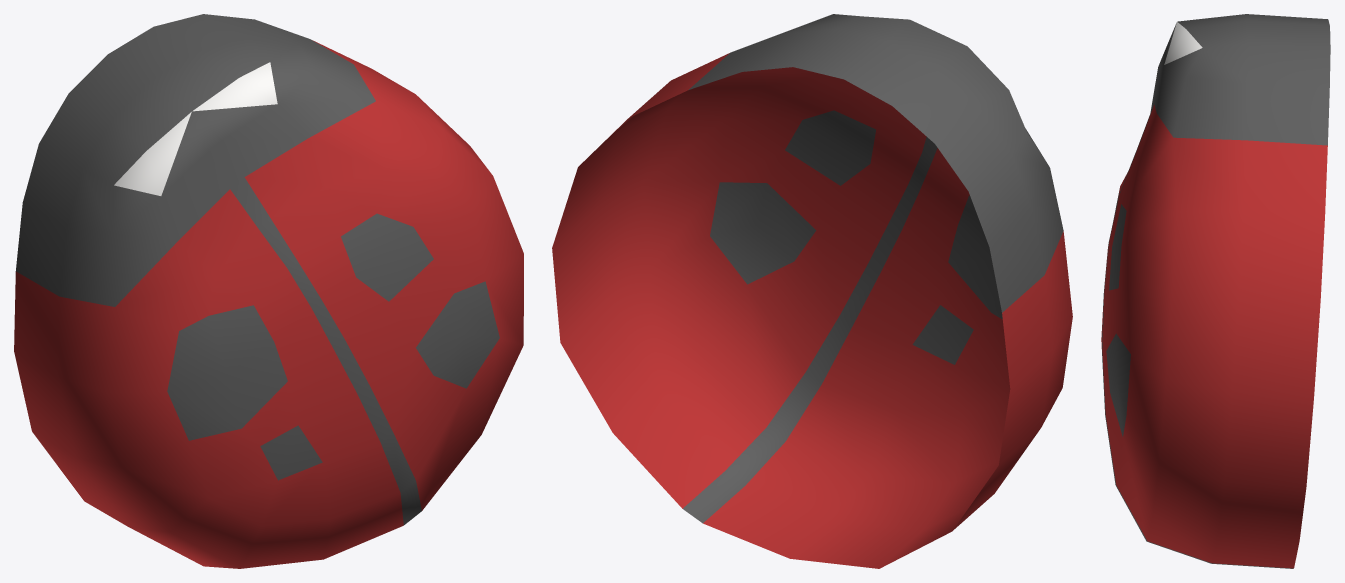
Rendered from LadyBug_2.fbx.
3 renders of one model, left to right at view 1: azimuth 30°, elevation 25°; view 2: azimuth 150°, elevation 25°; view 3: azimuth 270°, elevation 25°, orthographic. The views are drawn at different scales.
Visible parts, largest first — view 1: LadyBug_2; view 2: LadyBug_2; view 3: LadyBug_2.
Boxes of the visible parts, box(x1,y1,x2,y2) form: LadyBug_2: box(14, 14, 523, 568); LadyBug_2: box(552, 14, 1072, 568); LadyBug_2: box(1101, 14, 1330, 568).
Size of the model in its own units: 22.9 by 10.6 by 24.96.
